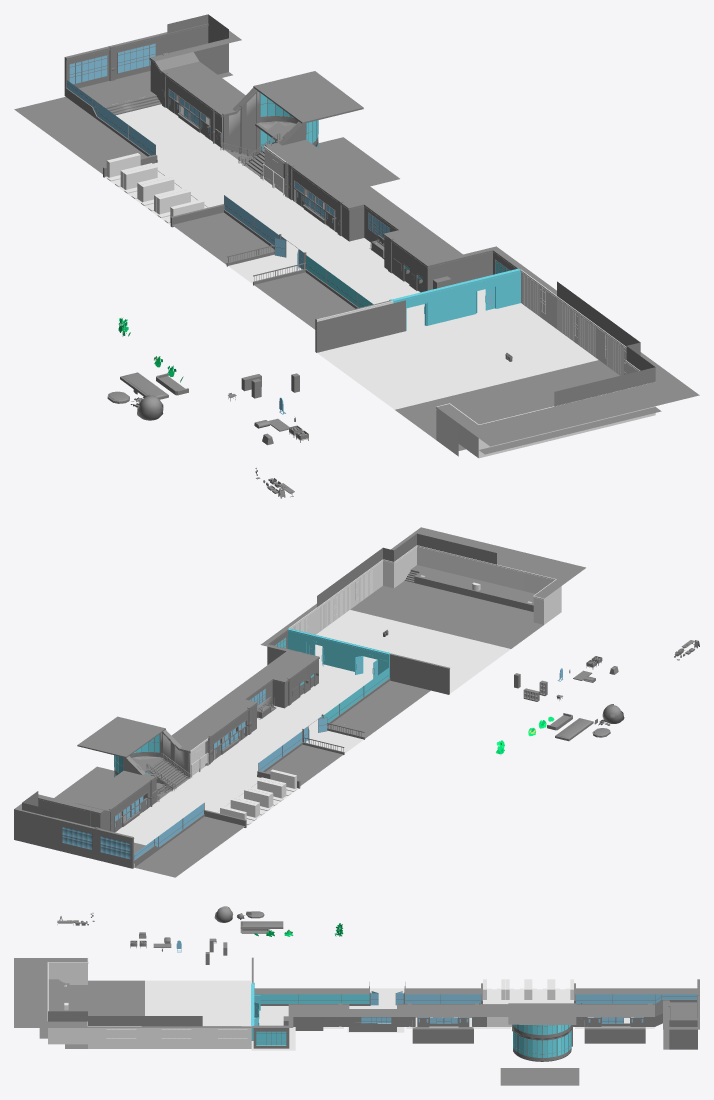
File: sb_school_01.fbx
3 views of the same model, one above another, from view 1: azimuth 30°, elevation 25°; view 2: azimuth 150°, elevation 25°; view 3: azimuth 270°, elevation 25° (orthographic). The views are drawn at different scales.
Parts seen in each view (by area): view 1: sb_school_roof, sb_school_road_08_1, sb_school_road_01, sb_school_road_07, sb_school_road_09_1, sb_school_road_03, sb_school_road_02_4, sb_school_road_02_1, sb_school_road_07_2, sb_school_road_05, sb_school_road_05_1, sb_school_road_02_2 (+8 smaller); view 2: sb_school_roof, sb_school_road_01, sb_school_road_09_1, sb_school_road_08_1, sb_school_road_07, sb_school_road_09, sb_school_road_03, sb_school_road_02_4, sb_school_road_02_1, sb_school_road_07_2, sb_school_road_07_1, sb_school_out_01 (+7 smaller); view 3: sb_school_roof, sb_school_road_01, sb_school_road_08_1, sb_school_road_09_1, sb_school_road_07, sb_school_road_03, sb_school_road_09, sb_school_road_08, sb_school_road_02_1, sb_school_road_02_2, sb_school_out_01, sb_school_road_05 (+5 smaller).
Boxes of the visible parts, <box> form: sb_school_roof: <box>64,30,699,446</box>; sb_school_road_08_1: <box>317,303,598,409</box>; sb_school_road_01: <box>14,23,232,177</box>; sb_school_road_07: <box>267,236,518,352</box>; sb_school_road_09_1: <box>395,360,661,454</box>; sb_school_road_03: <box>170,162,343,265</box>; sb_school_road_02_4: <box>153,146,284,207</box>; sb_school_road_02_1: <box>220,90,318,178</box>; sb_school_road_07_2: <box>389,268,520,330</box>; sb_school_road_05: <box>226,202,399,294</box>; sb_school_road_05_1: <box>228,238,384,283</box>; sb_school_road_02_2: <box>104,153,207,225</box>; sb_school_roof: <box>14,527,585,868</box>; sb_school_road_01: <box>14,776,246,877</box>; sb_school_road_09_1: <box>350,565,543,648</box>; sb_school_road_08_1: <box>315,610,510,693</box>; sb_school_road_07: <box>267,629,448,731</box>; sb_school_road_09: <box>350,545,561,624</box>; sb_school_road_03: <box>205,706,342,788</box>; sb_school_road_02_4: <box>155,765,260,812</box>; sb_school_road_02_1: <box>114,731,190,801</box>; sb_school_road_07_2: <box>288,628,390,678</box>; sb_school_road_07_1: <box>284,662,373,717</box>; sb_school_out_01: <box>317,533,496,607</box>; sb_school_roof: <box>14,957,699,1029</box>; sb_school_road_01: <box>573,979,699,1049</box>; sb_school_road_08_1: <box>145,980,250,1025</box>; sb_school_road_09_1: <box>39,979,144,1048</box>; sb_school_road_07: <box>253,988,369,1048</box>; sb_school_road_03: <box>404,983,486,1043</box>; sb_school_road_09: <box>47,958,144,1048</box>; sb_school_road_08: <box>140,957,251,1048</box>; sb_school_road_02_1: <box>512,1024,572,1061</box>; sb_school_road_02_2: <box>483,979,573,1003</box>; sb_school_out_01: <box>48,1011,202,1026</box>; sb_school_road_05: <box>341,982,408,1031</box>.
Size of the model in its own units: 44.44 by 7.71 by 82.1.
